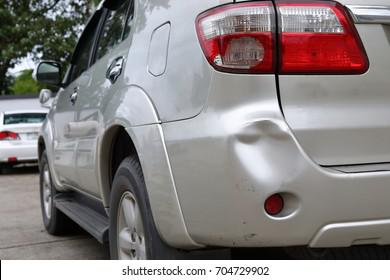rear-bumper-dent: (154, 109, 389, 252)
